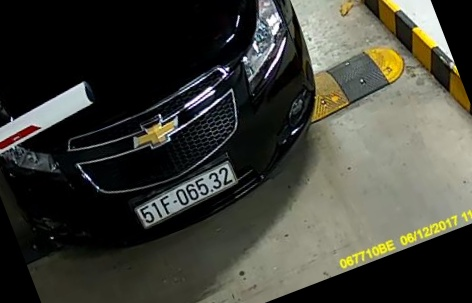plate: (128, 162, 241, 231)
